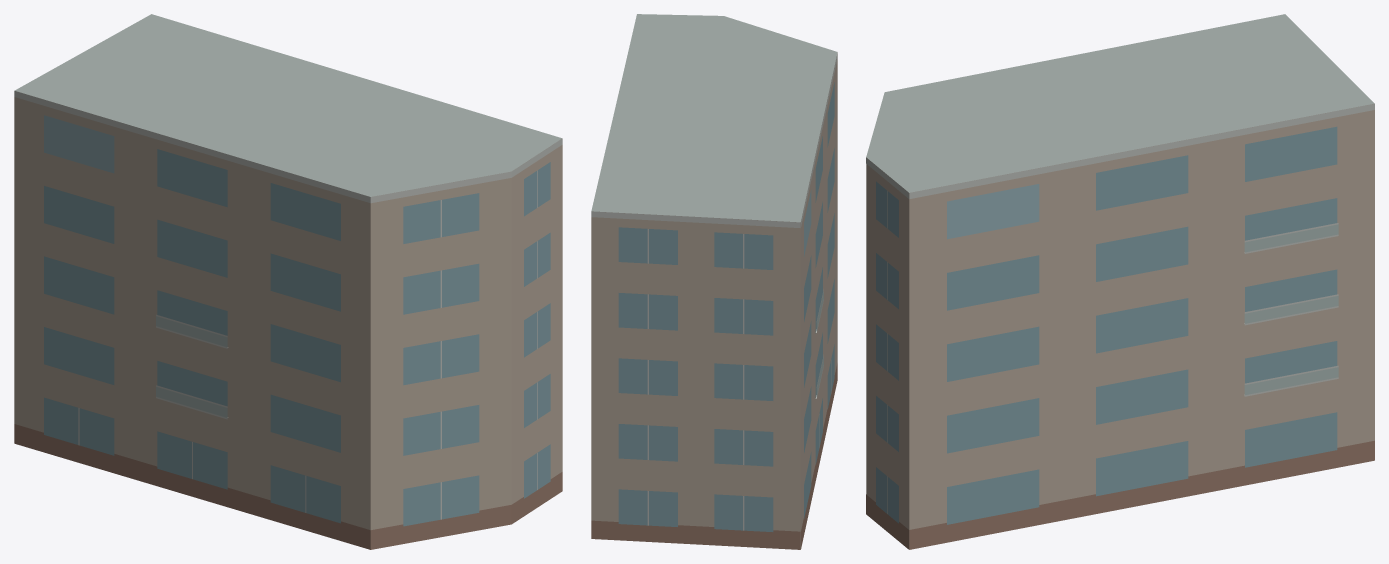
The model's file is survey-upis-32539430.glb.
3 views of the same model, side by side, from view 1: azimuth 30°, elevation 25°; view 2: azimuth 150°, elevation 25°; view 3: azimuth 270°, elevation 25° (orthographic). The views are drawn at different scales.
Visible parts, largest first — view 1: survey-upis-32539430.tmp; view 2: survey-upis-32539430.tmp; view 3: survey-upis-32539430.tmp.
Boxes of the visible parts, x1,y1,x2,y2 form: survey-upis-32539430.tmp: (14, 14, 562, 549); survey-upis-32539430.tmp: (591, 14, 837, 549); survey-upis-32539430.tmp: (866, 14, 1374, 549).
Bounding box in the file's own units: 14.75 × 13.72 × 17.73.
